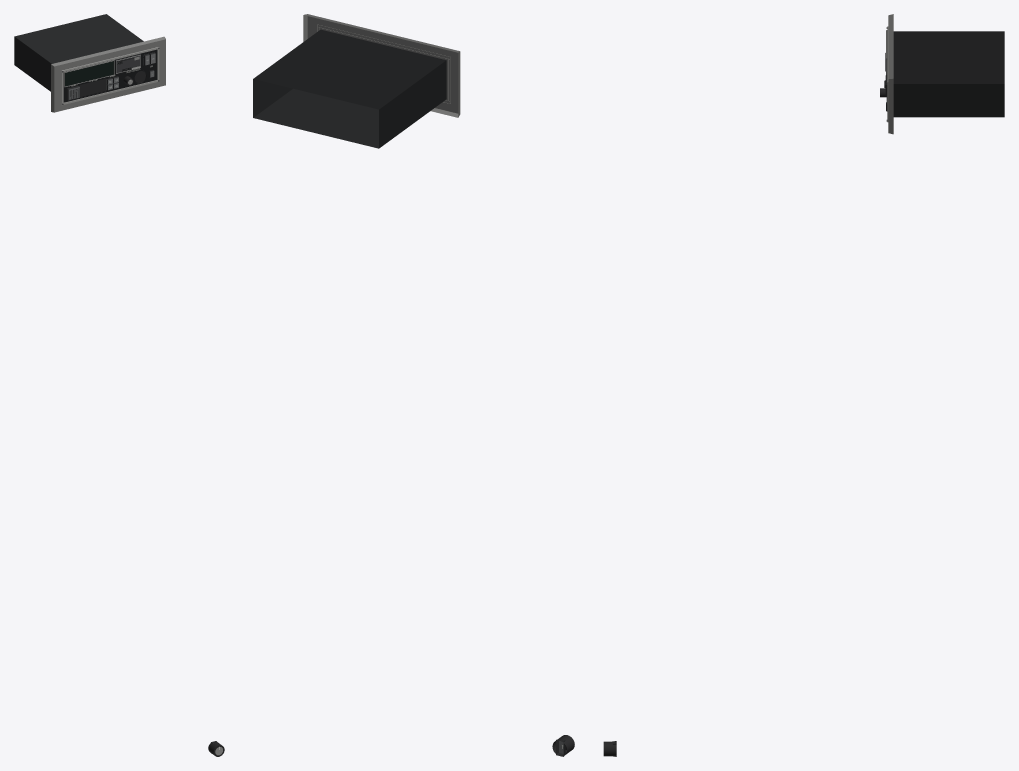
Rendered from cab-radio.glb.
The picture shows the model from 3 angles, left to right: view 1: azimuth 30°, elevation 25°; view 2: azimuth 150°, elevation 25°; view 3: azimuth 270°, elevation 25°; orthographic projection. The views are drawn at different scales.
Visible parts, largest first — view 1: drive_radio, drive_radio_readout; view 2: drive_radio; view 3: drive_radio.
Part boxes in pixels (left/top/right/bottom): drive_radio: left=14, top=14, right=165, bottom=112; drive_radio_readout: left=65, top=61, right=113, bottom=86; drive_radio: left=253, top=14, right=460, bottom=148; drive_radio: left=880, top=14, right=1004, bottom=134.
Size of the model in its own units: 0.224 by 1.16 by 0.5864.
13 materials, 1 textured.
